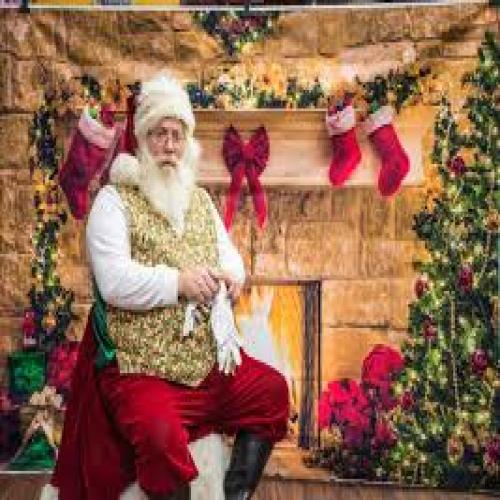Santa: (86, 78, 291, 497)
